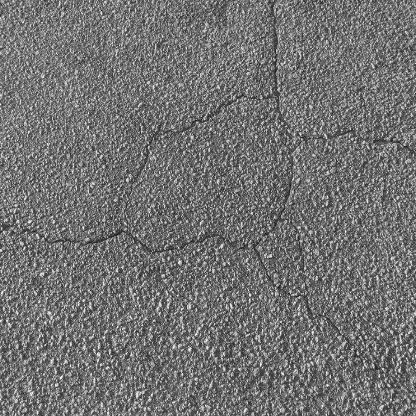Cracks: (124, 95, 267, 203), (0, 222, 256, 255), (251, 162, 301, 250), (287, 134, 416, 160), (268, 0, 286, 127)
